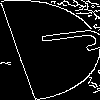J: (24, 25, 100, 59)
